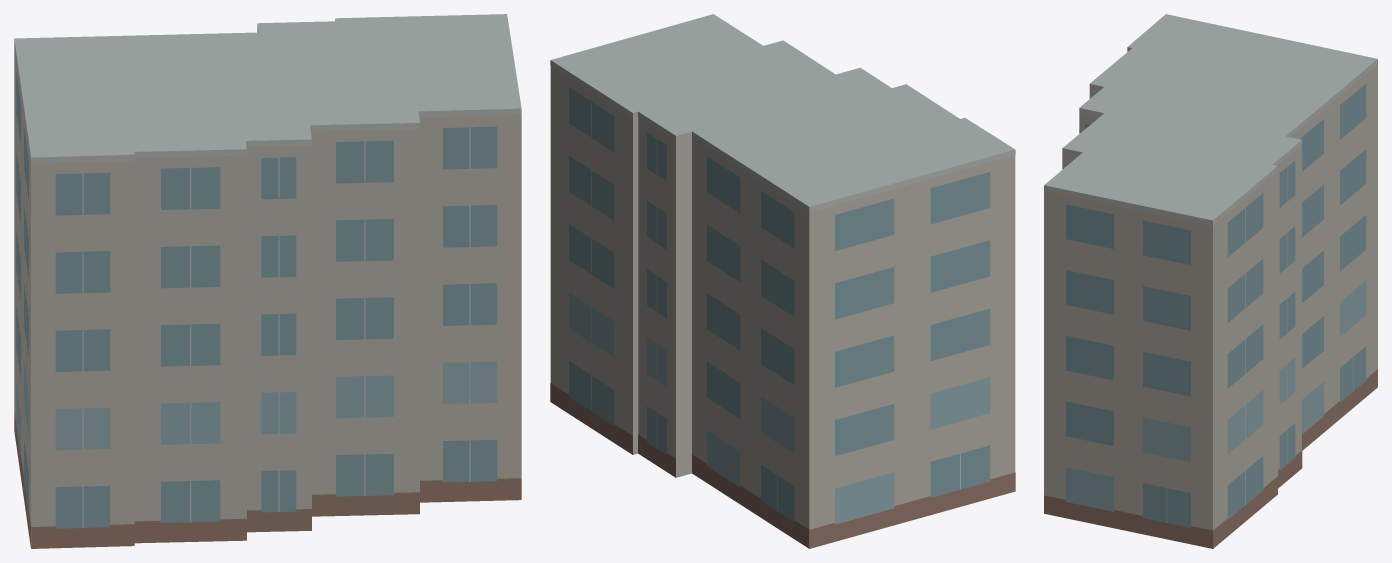
The model's file is survey-upis-32629691.glb.
3 views of the same model, side by side, from view 1: azimuth 30°, elevation 25°; view 2: azimuth 150°, elevation 25°; view 3: azimuth 270°, elevation 25° (orthographic). The views are drawn at different scales.
Visible parts, largest first — view 1: survey-upis-32629691.tmp; view 2: survey-upis-32629691.tmp; view 3: survey-upis-32629691.tmp.
Part boxes in pixels (x1,y1,x2,y2): survey-upis-32629691.tmp: (14, 14, 521, 548); survey-upis-32629691.tmp: (550, 14, 1015, 548); survey-upis-32629691.tmp: (1044, 14, 1377, 548).
Bounding box in the file's own units: 20.57 × 15.25 × 14.05.
